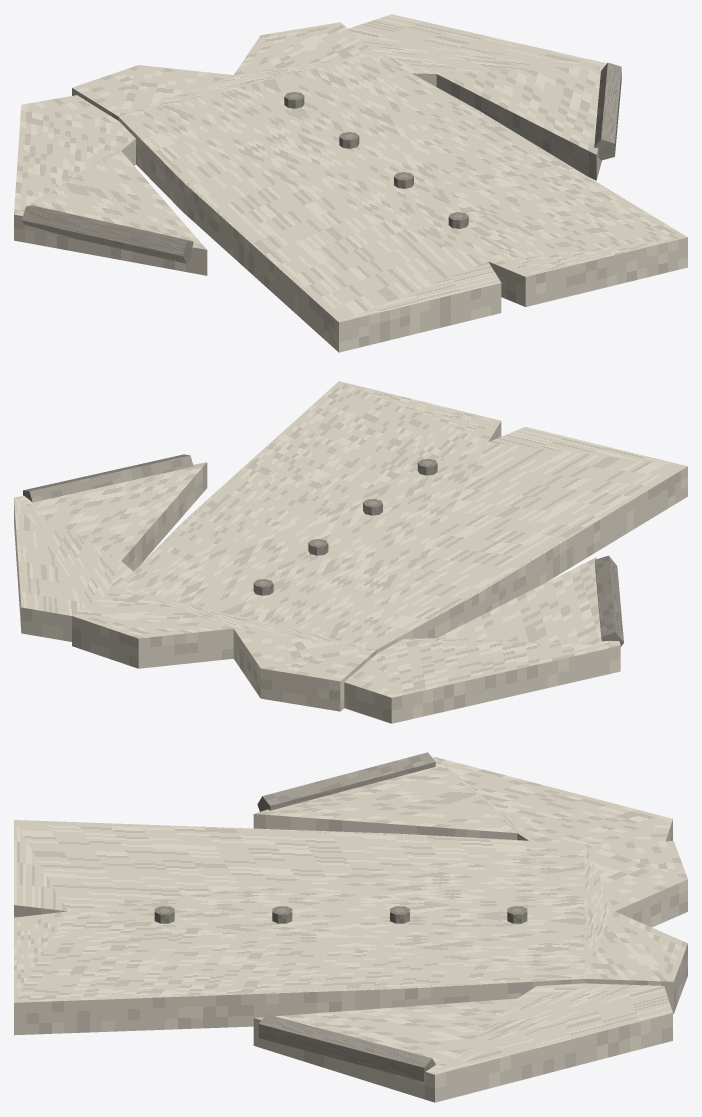
File: thawb.glb
The picture shows the model from 3 angles, top to bottom: view 1: azimuth 30°, elevation 25°; view 2: azimuth 150°, elevation 25°; view 3: azimuth 270°, elevation 25°; orthographic projection. The views are drawn at different scales.
Parts seen in each view (by area): view 1: block_coat body, block_sleeve (×2), block_cuff 0 (×2); view 2: block_coat body, block_sleeve (×2), block_cuff 0 (×2); view 3: block_coat body, block_sleeve (×2), block_cuff 0 (×2).
Boxes of the visible parts, x1,y1,x2,y2 form: block_coat body: (72, 22, 687, 352); block_sleeve (×2): (14, 14, 606, 275); block_cuff 0 (×2): (22, 62, 621, 263); block_coat body: (72, 381, 687, 711); block_sleeve (×2): (14, 462, 620, 723); block_cuff 0 (×2): (23, 454, 623, 646); block_coat body: (14, 820, 687, 1035); block_sleeve (×2): (253, 757, 672, 1102); block_cuff 0 (×2): (257, 752, 435, 1081).
Size of the model in its own units: 0.7842 by 0.0477 by 0.7027.
Materials: 1 (1 with a texture image).
